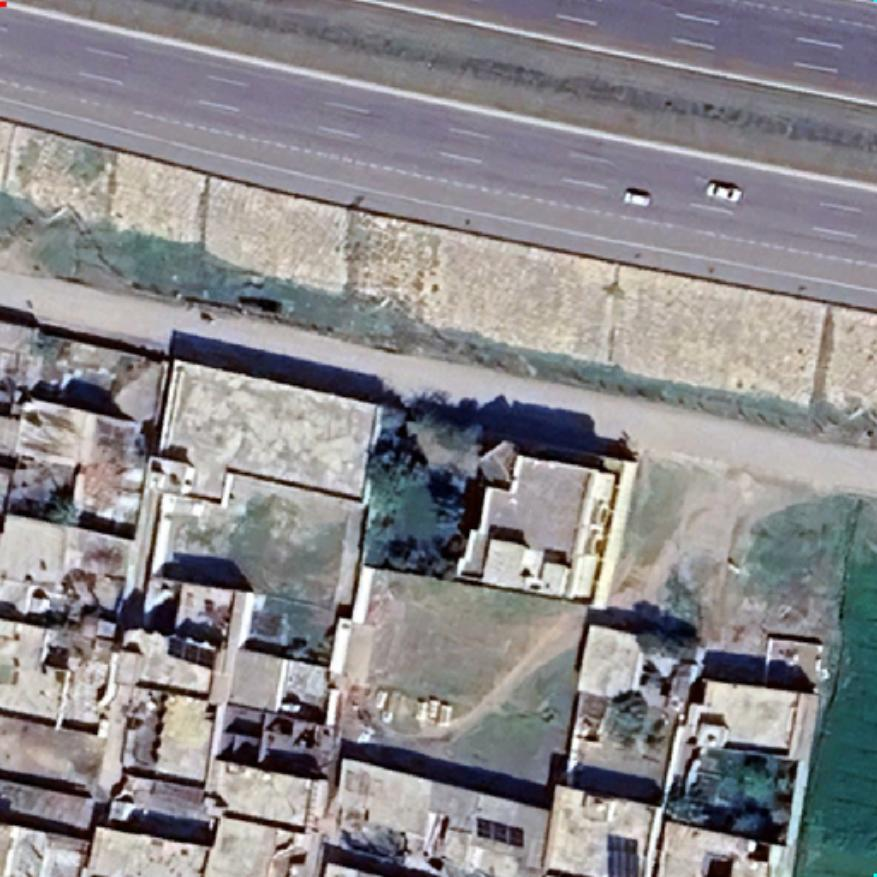Solarpanel: (469, 810, 530, 854), (164, 632, 218, 672), (603, 829, 645, 877)
